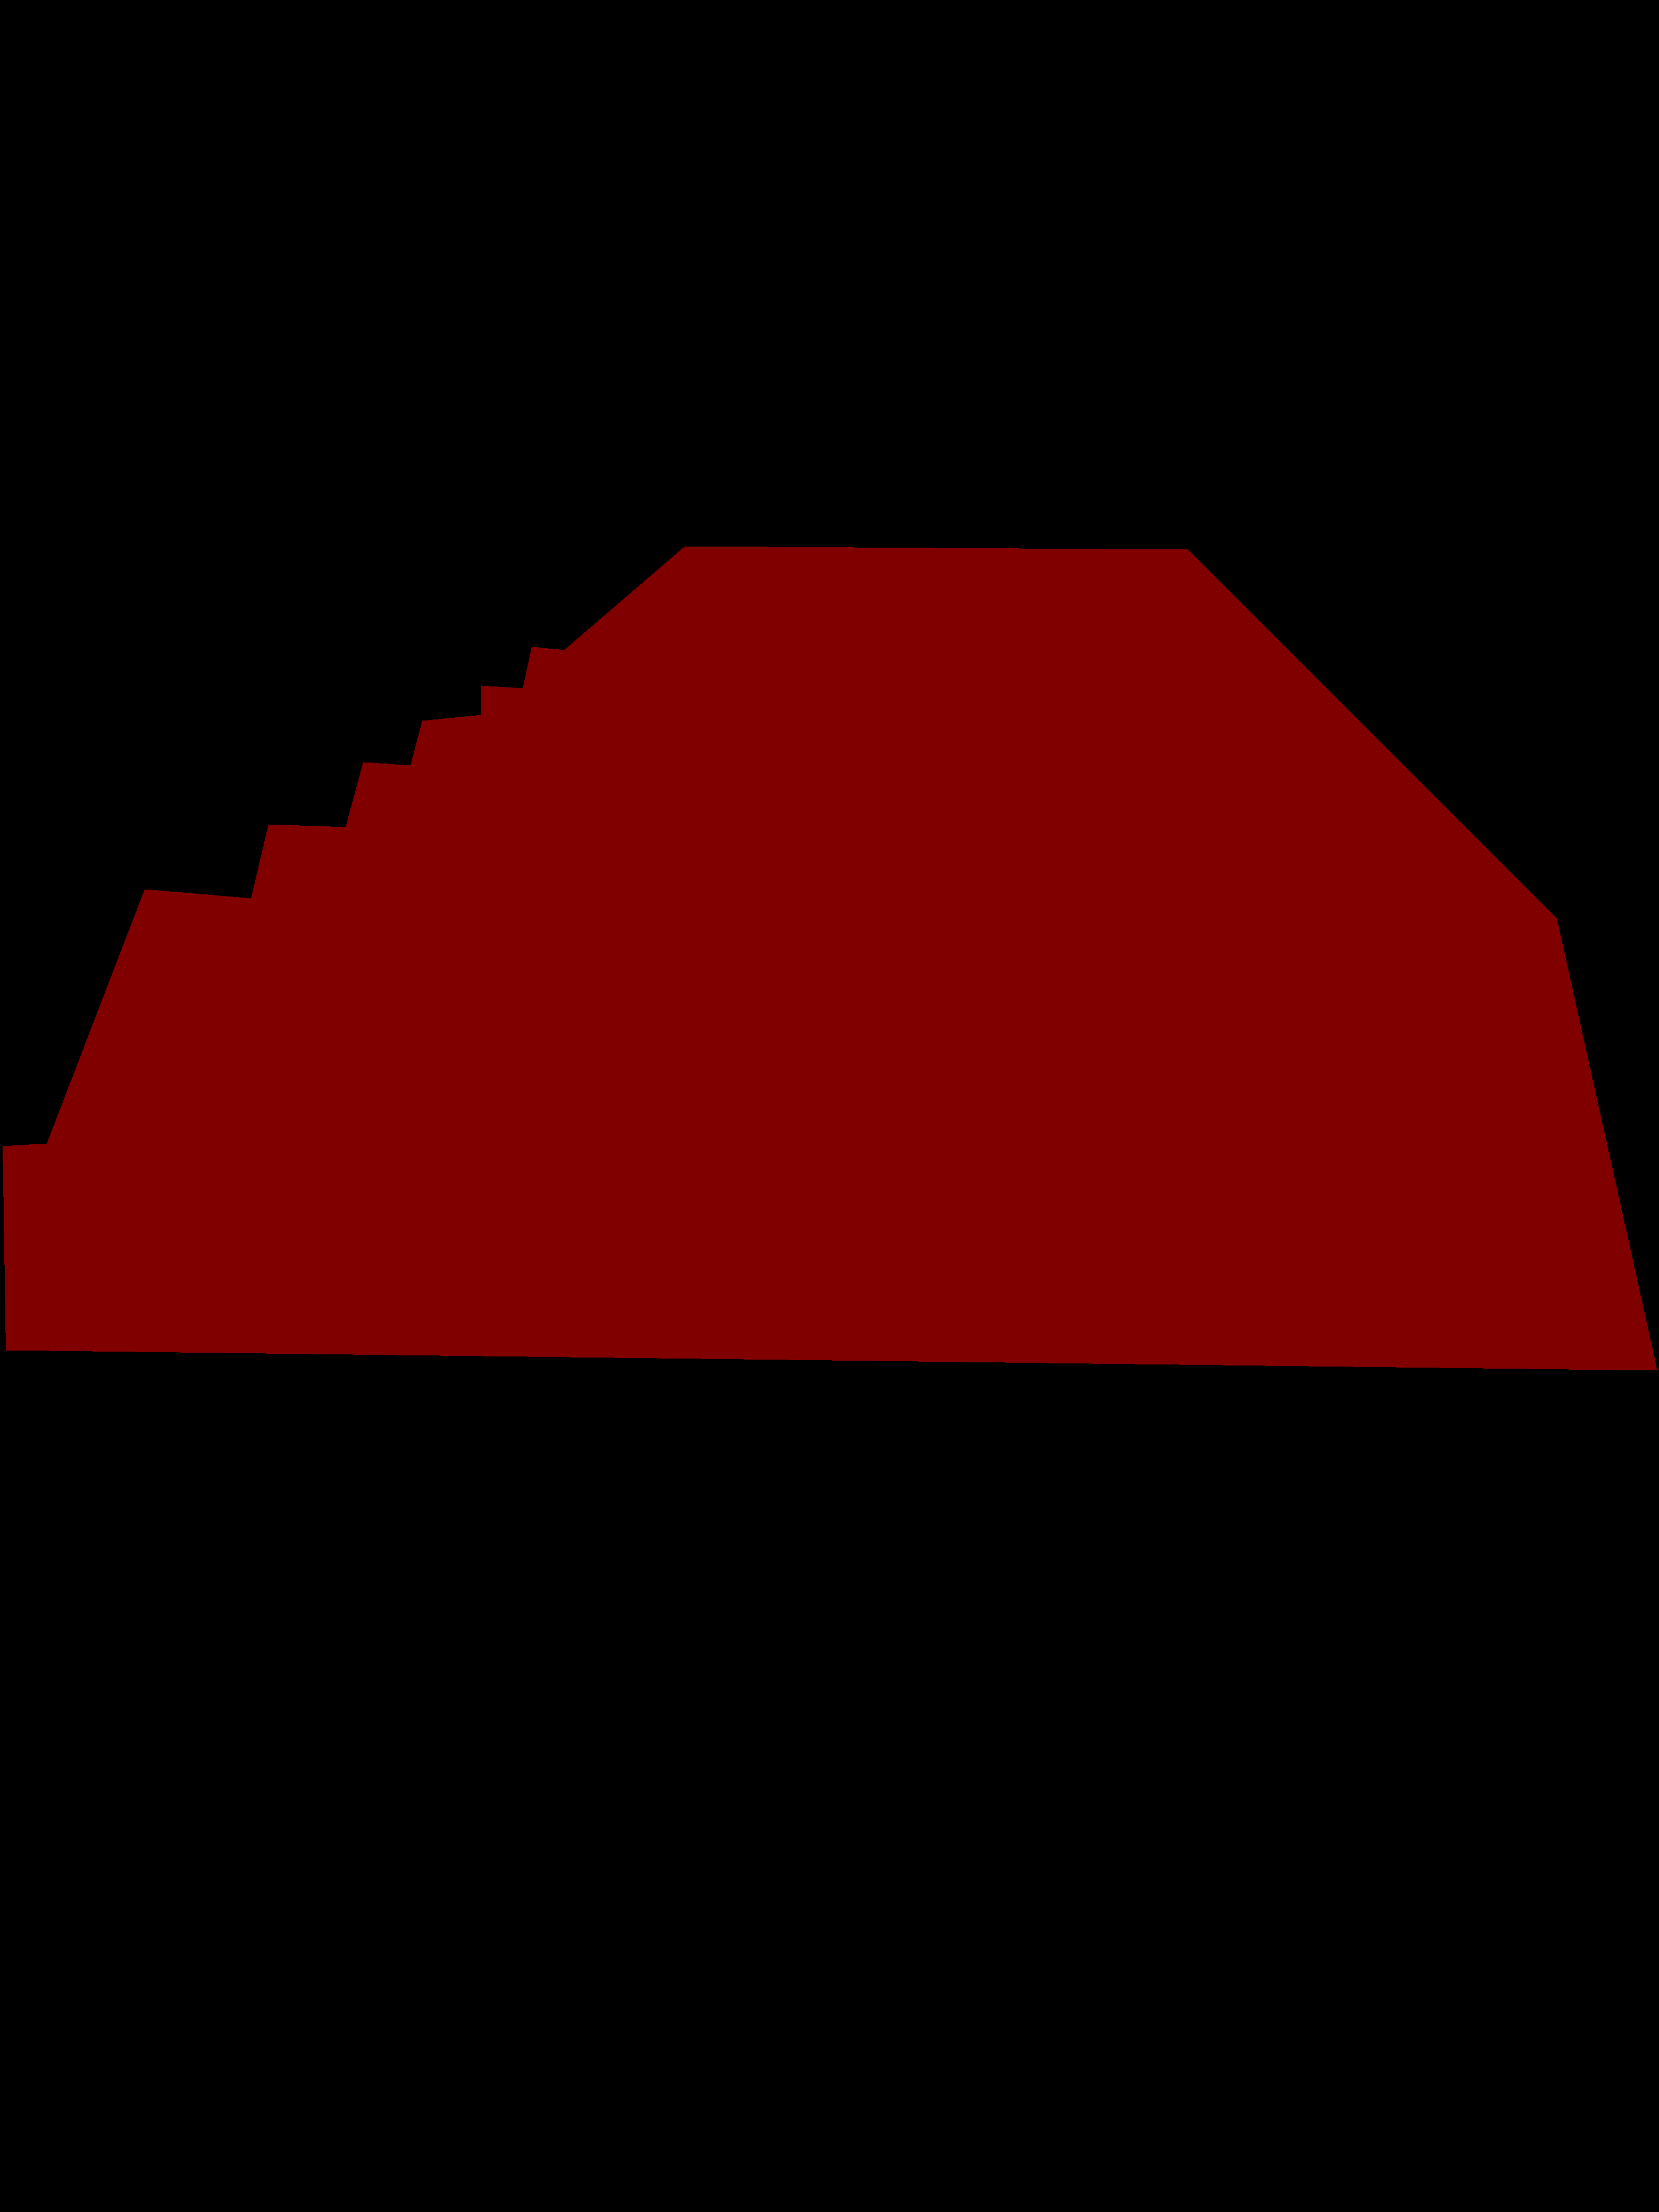stair: (3, 547, 1657, 1371)
